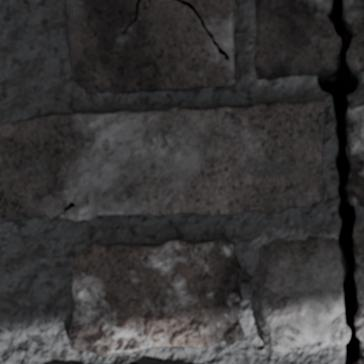brick: (0, 101, 325, 220), (69, 240, 243, 356), (66, 0, 237, 92), (347, 106, 363, 205), (356, 359, 363, 363)
broken_brick: (258, 236, 348, 346), (254, 0, 339, 79), (346, 0, 363, 73), (355, 229, 363, 341)
crack: (315, 0, 362, 363), (172, 0, 229, 61), (121, 0, 141, 35), (52, 201, 76, 218), (0, 212, 7, 219)
